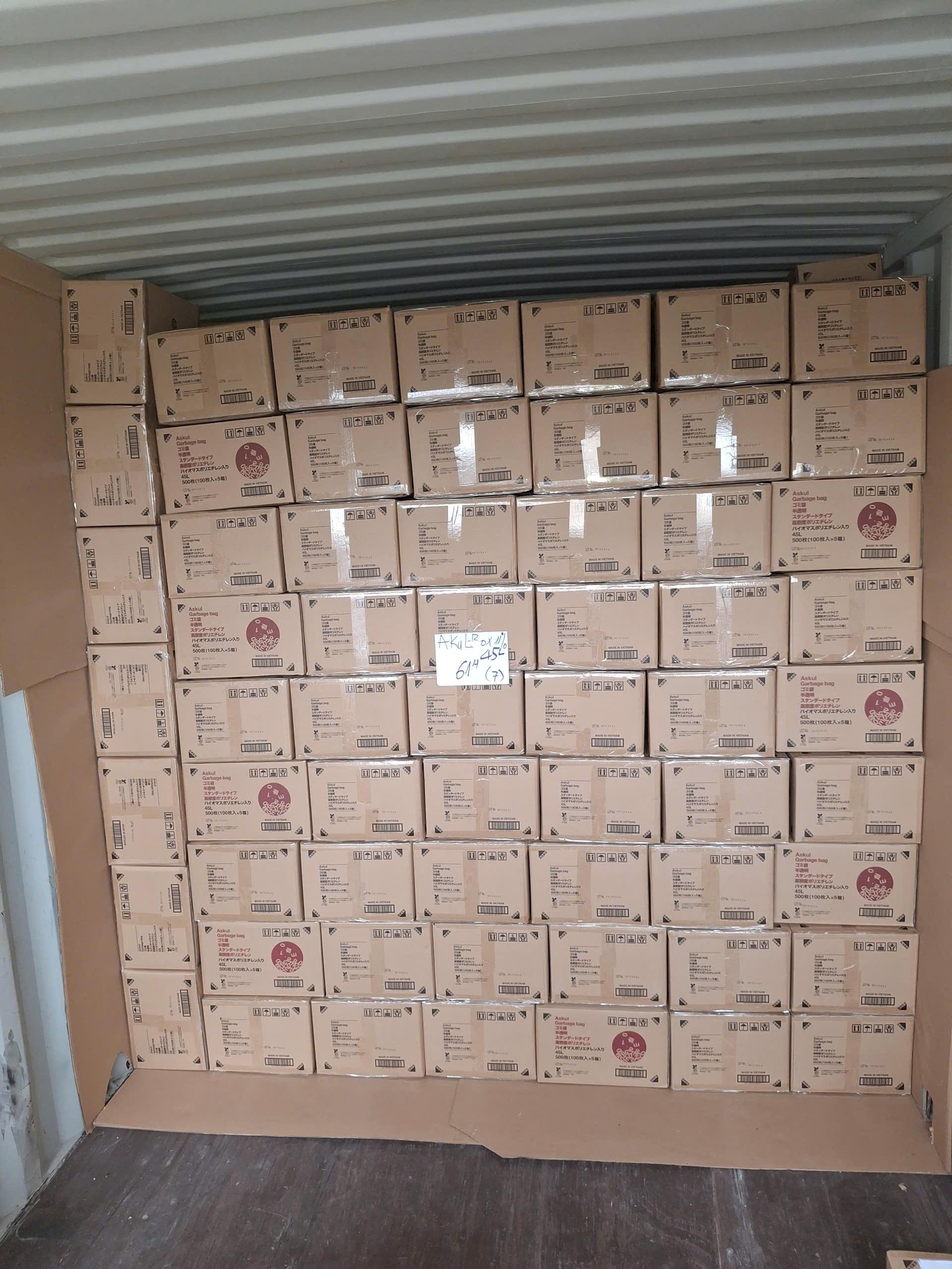carton: (790, 275, 930, 383), (775, 477, 926, 576), (657, 283, 791, 389), (643, 480, 775, 586), (779, 660, 923, 756), (784, 568, 925, 666), (269, 308, 400, 413), (790, 379, 930, 477), (395, 301, 525, 406), (154, 415, 291, 513), (148, 321, 277, 425), (529, 293, 652, 399), (535, 392, 662, 494), (167, 589, 306, 678), (663, 385, 790, 482), (283, 408, 408, 506), (74, 526, 176, 645), (778, 841, 919, 926), (61, 276, 150, 410), (409, 400, 530, 498), (513, 494, 645, 582), (788, 756, 925, 840), (522, 670, 651, 759), (643, 671, 778, 755), (541, 1004, 671, 1091), (666, 760, 788, 852), (537, 581, 660, 672), (159, 509, 286, 597), (65, 406, 158, 526), (85, 642, 179, 760), (278, 501, 399, 592), (790, 929, 918, 1014), (414, 586, 536, 675), (791, 1012, 915, 1098), (660, 576, 778, 666), (655, 839, 777, 926), (542, 758, 660, 847), (291, 673, 411, 760), (96, 757, 190, 868), (296, 589, 421, 672), (183, 760, 306, 844), (670, 929, 790, 1014), (396, 498, 513, 585), (407, 671, 522, 757), (535, 839, 651, 923), (173, 678, 296, 757), (673, 1011, 786, 1096), (425, 758, 539, 842), (198, 919, 322, 995), (306, 759, 419, 842), (415, 840, 530, 921), (185, 841, 301, 921), (302, 841, 419, 920), (433, 926, 548, 1006), (311, 1000, 426, 1080), (119, 969, 208, 1072), (553, 925, 667, 1005), (320, 921, 434, 1001), (201, 995, 312, 1077), (109, 865, 197, 967), (430, 1002, 537, 1083), (793, 255, 882, 286)
